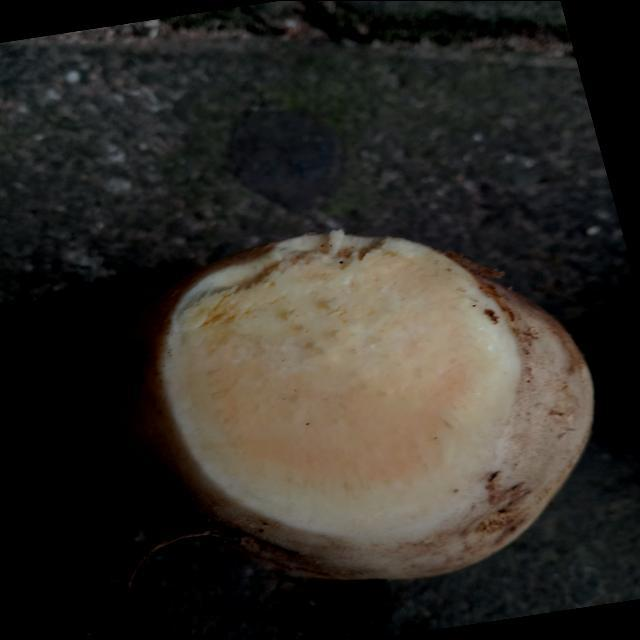Healthy Sweet Potato: (162, 230, 520, 536)
